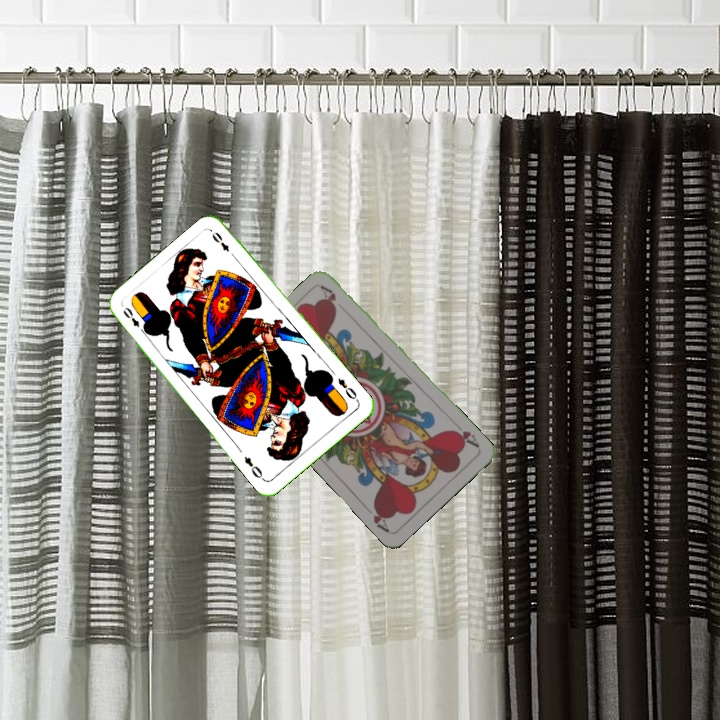EO: (119, 303, 148, 337), (334, 373, 359, 402)
HA: (447, 425, 482, 450)
